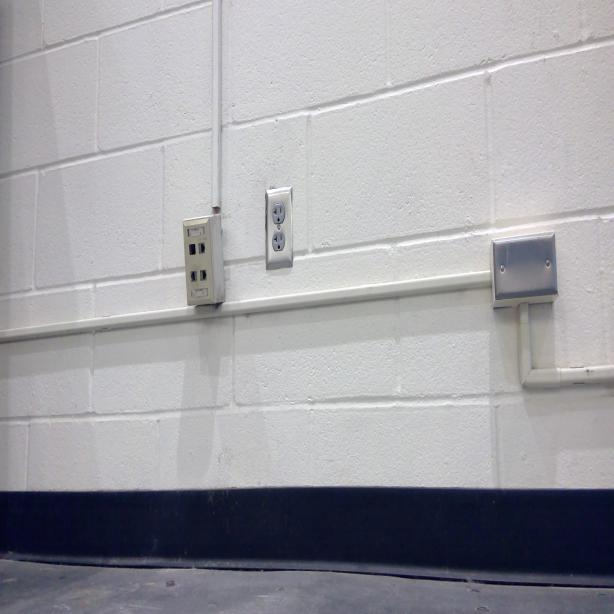typeb: (271, 205, 285, 224), (273, 233, 284, 250)
